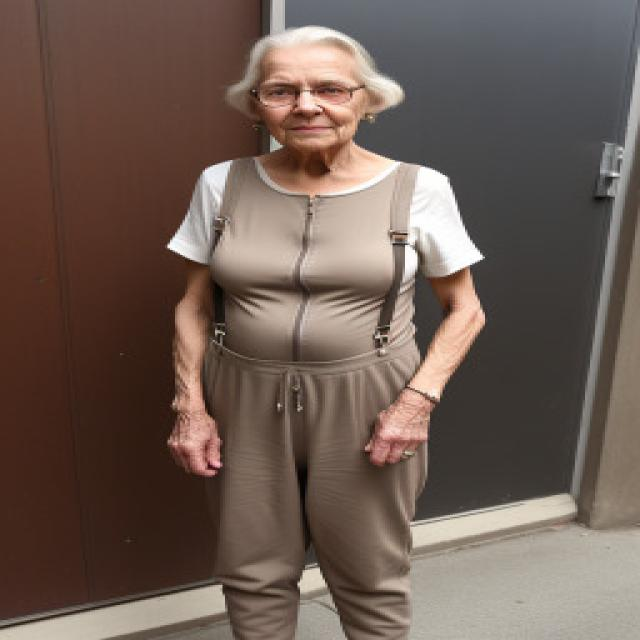Ai human 2: (146, 20, 521, 640)
